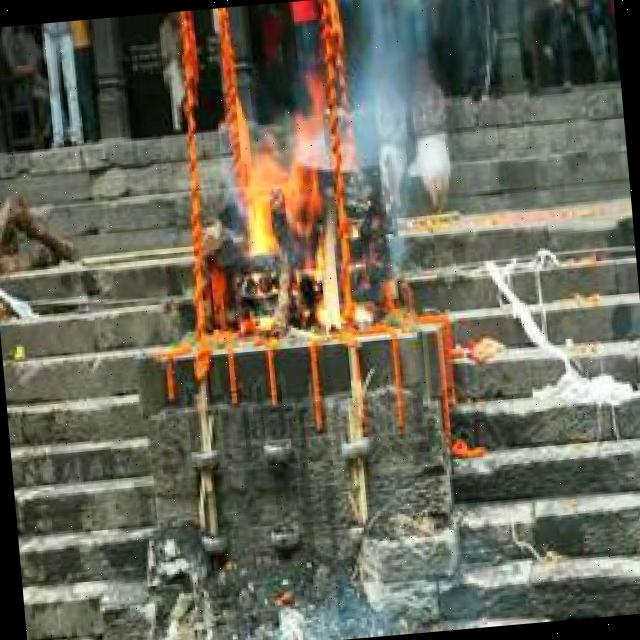fire: (231, 117, 347, 341)
